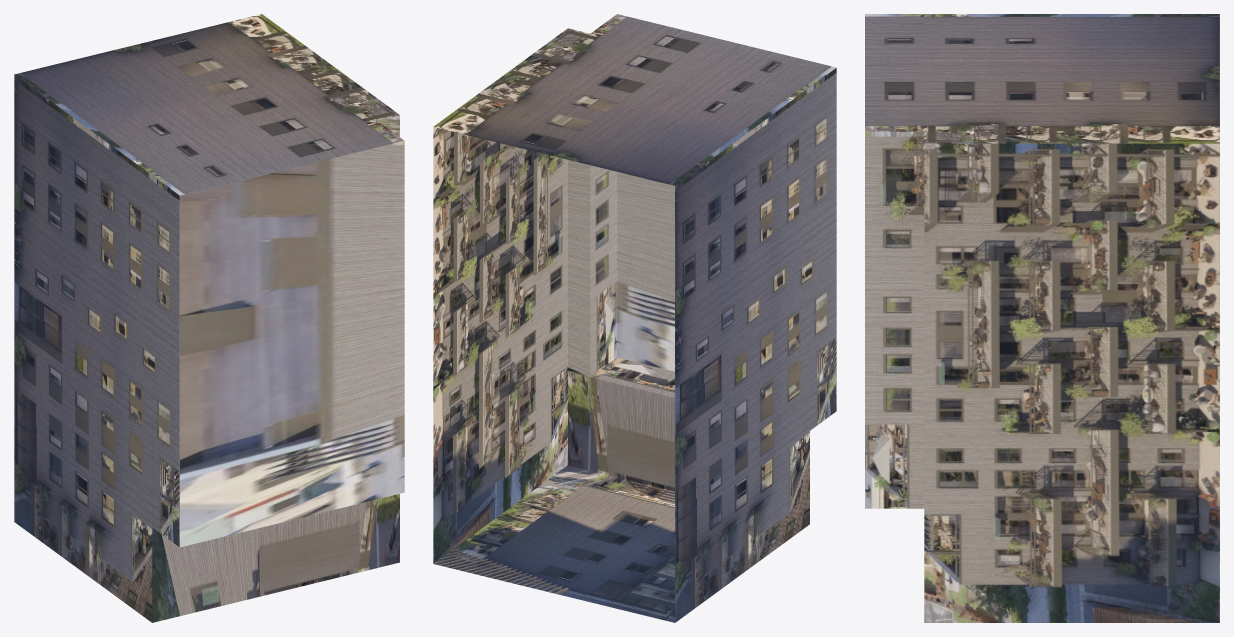
Rendered from husB.glb.
3 views of the same model, side by side, from view 1: azimuth 30°, elevation 25°; view 2: azimuth 150°, elevation 25°; view 3: azimuth 270°, elevation 25° (orthographic). The views are drawn at different scales.
Parts seen in each view (by area): view 1: HusB; view 2: HusB; view 3: HusB.
Part boxes in pixels (box(x1,y1,x2,y2)): HusB: box(14, 14, 404, 622); HusB: box(433, 14, 836, 622); HusB: box(865, 14, 1219, 622).
Bounding box in the file's own units: 16.07 × 27.74 × 18.6.
Materials: 11 (11 with a texture image).
